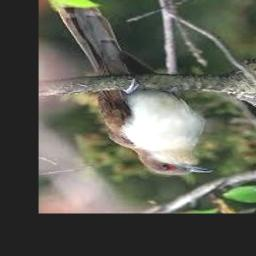Cuckoo: (59, 6, 215, 174)
